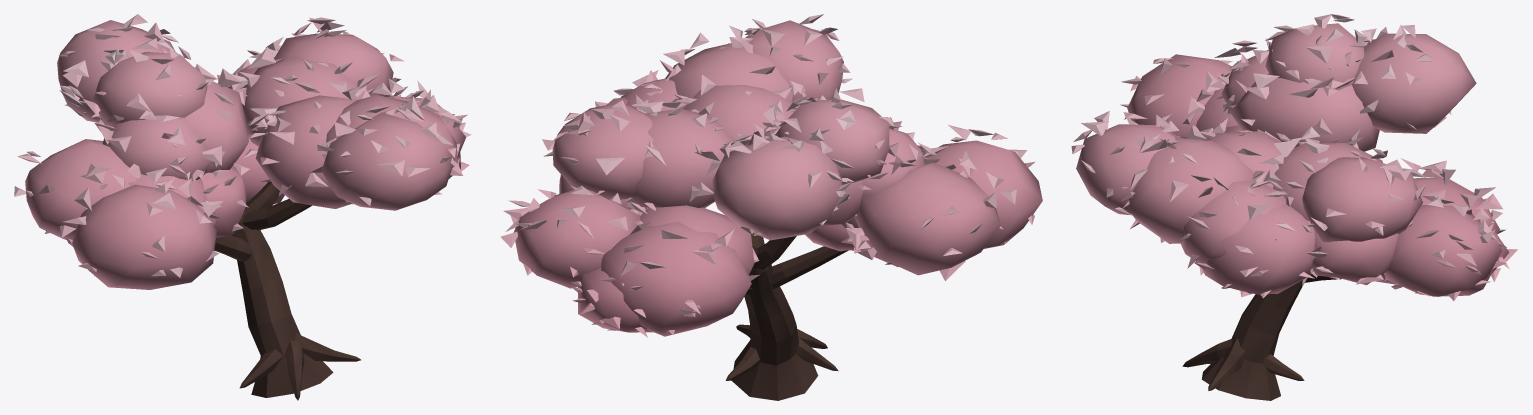
The model's file is sakura_3.glb.
3 views of the same model, side by side, from view 1: azimuth 30°, elevation 25°; view 2: azimuth 150°, elevation 25°; view 3: azimuth 270°, elevation 25° (orthographic). The views are drawn at different scales.
Visible parts, largest first — view 1: sakura_3; view 2: sakura_3; view 3: sakura_3.
Boxes of the visible parts, x1,y1,x2,y2 form: sakura_3: (14,14,471,400); sakura_3: (500,14,1042,400); sakura_3: (1071,14,1517,400).
Bounding box in the file's own units: 10.12 × 7.7 × 9.52.
